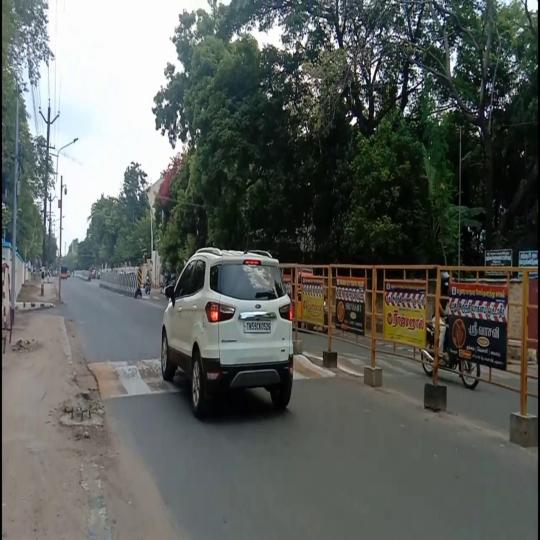Speed Bump: (87, 358, 161, 400), (293, 355, 323, 381), (338, 351, 364, 377), (382, 356, 414, 377)
